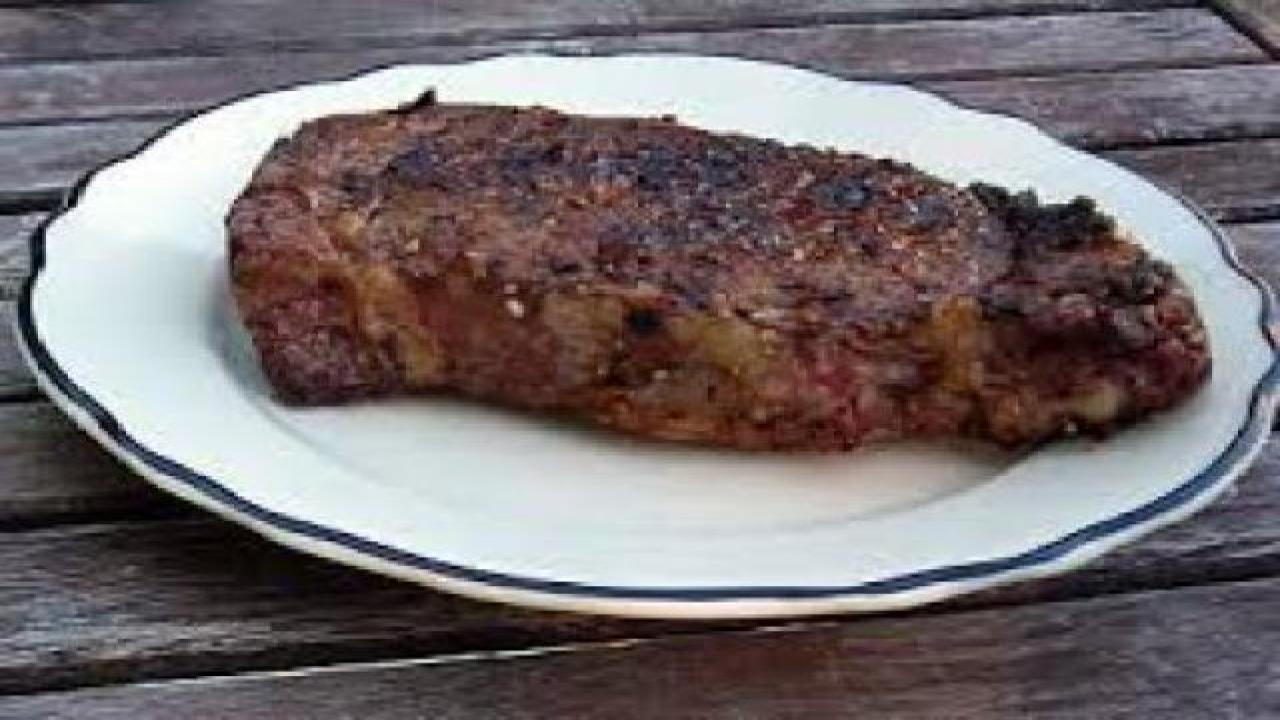done: (220, 68, 1199, 513)
